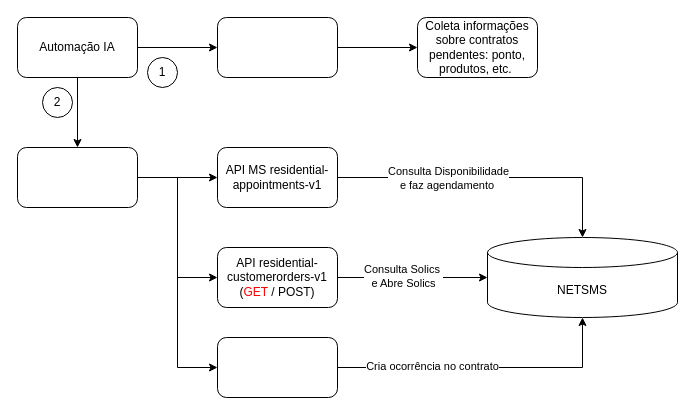
The diagram is 695 pixels wide and 415 high, and some of its shapes have lost their labels. The shapes that lost their labels are listed below. From the top down, each one's centre as x and y in pixels, then its label:
At [277,47]: "Identifica cancelamentos solicitados e não realizados".
At [77,177]: "API NETSMS".
At [277,367]: "API residencial-occurences-v1".
